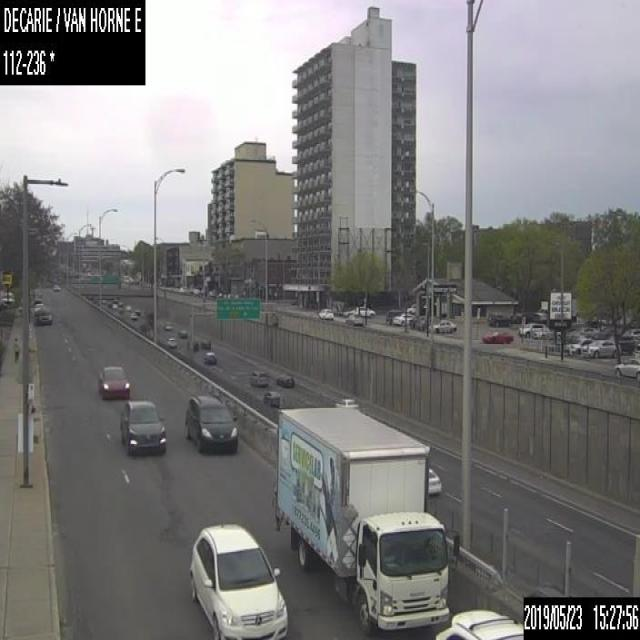pedestrian: (13, 336, 18, 365)
vehicle: (273, 407, 448, 636), (186, 520, 288, 639), (184, 391, 238, 452), (435, 607, 523, 639), (118, 399, 166, 456), (98, 364, 129, 400), (581, 338, 621, 358), (618, 329, 639, 354), (613, 359, 639, 377), (566, 337, 593, 354), (481, 329, 513, 343), (426, 468, 441, 497), (518, 322, 547, 337), (431, 319, 457, 333), (486, 311, 511, 325), (248, 368, 268, 385), (262, 391, 283, 407), (274, 372, 292, 387), (334, 397, 356, 409), (392, 312, 414, 324), (355, 305, 375, 317), (36, 308, 51, 324), (343, 313, 362, 324), (529, 311, 547, 322), (509, 312, 528, 322), (201, 350, 216, 362), (318, 307, 333, 317), (200, 336, 210, 347), (166, 336, 177, 346), (34, 302, 43, 314), (178, 328, 186, 338), (406, 302, 414, 312), (51, 284, 59, 292), (164, 321, 171, 328), (130, 311, 136, 319), (134, 308, 140, 314), (125, 304, 130, 310)
